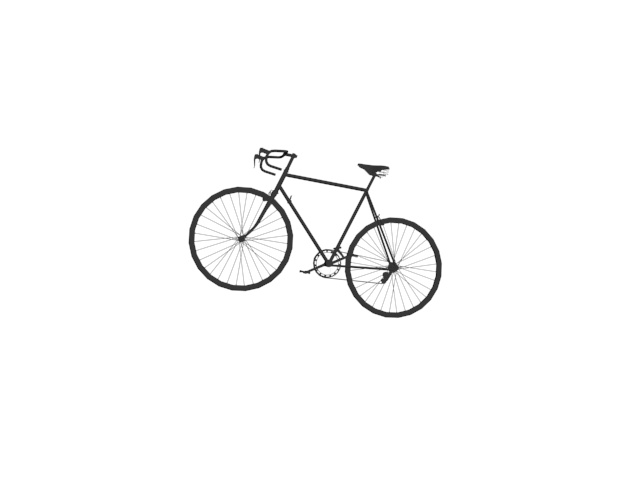bike: (185, 145, 448, 320)
